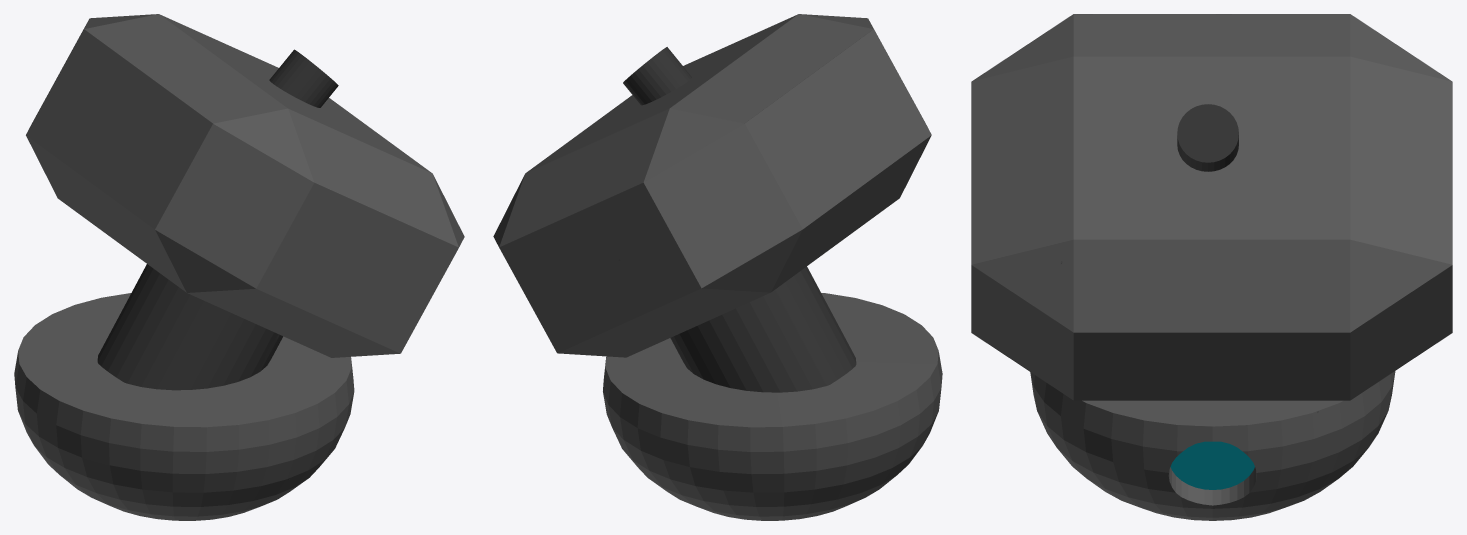
Rendered from Upper_body.fbx.
The picture shows the model from 3 angles, left to right: view 1: azimuth 30°, elevation 25°; view 2: azimuth 150°, elevation 25°; view 3: azimuth 270°, elevation 25°; orthographic projection. The views are drawn at different scales.
Visible parts, largest first — view 1: 胴; view 2: 胴; view 3: 胴.
Part boxes in pixels (<box>): 胴: <box>14,14,464,520</box>; 胴: <box>493,14,942,520</box>; 胴: <box>971,14,1452,520</box>.
Bounding box in the file's own units: 2547 × 2912 × 2731.
Materials: 1 (1 with a texture image).
